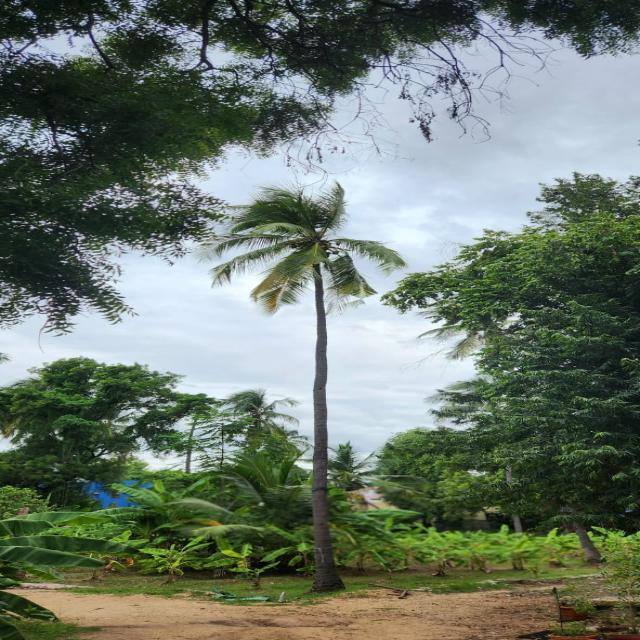Coconut-tree: (220, 190, 372, 594)
